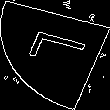L_E: (19, 32, 91, 78)
